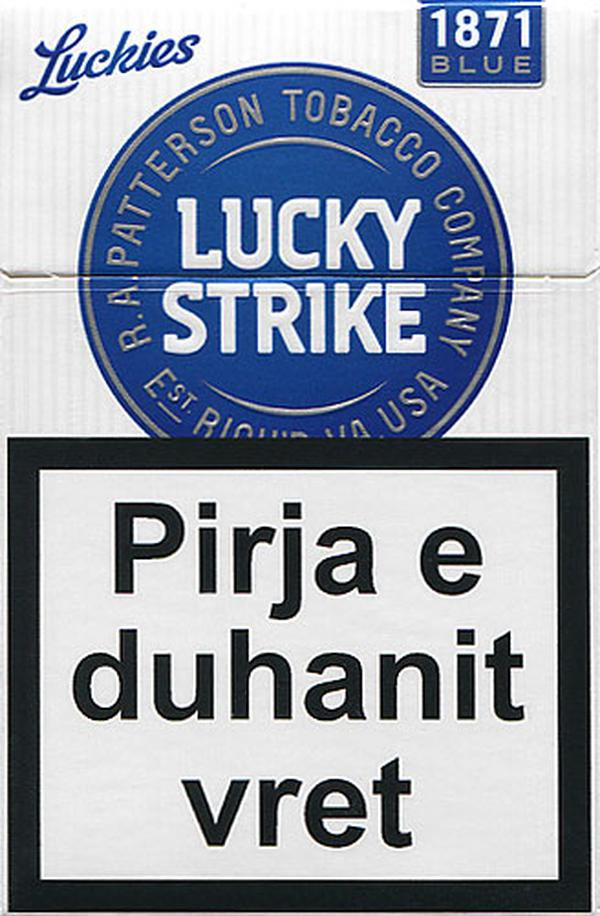lucky_strike_blue: (1, 3, 597, 916)
